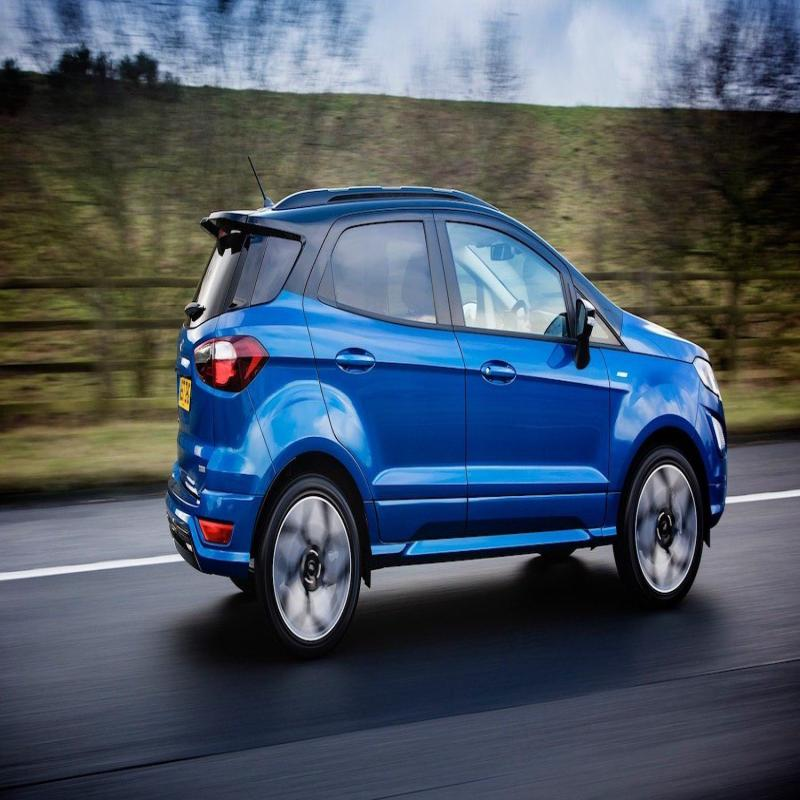car: (175, 169, 739, 640)
